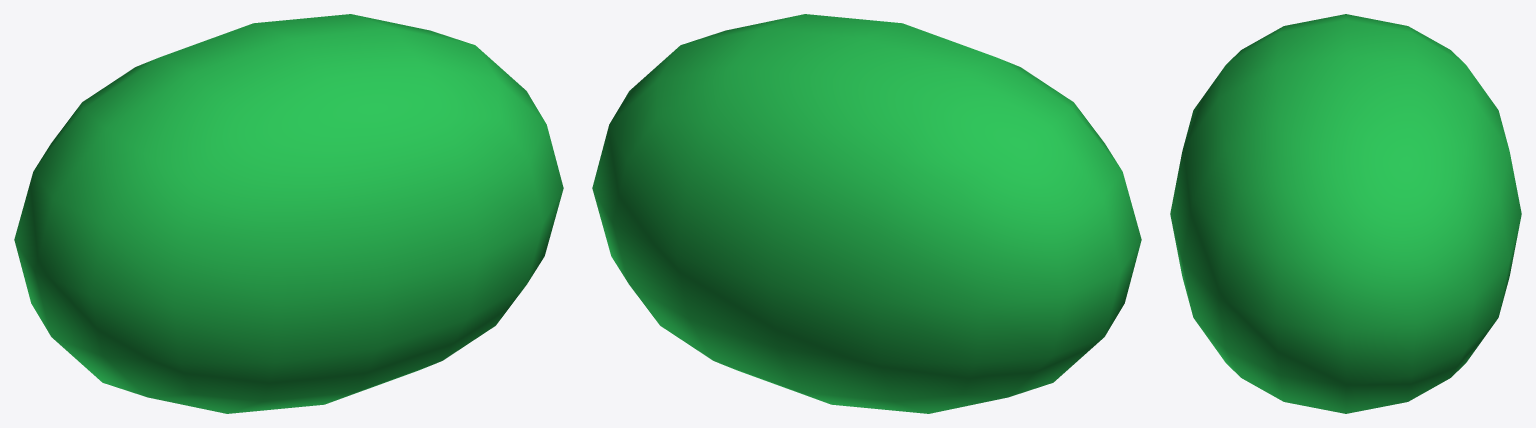
Rendered from Melon.fbx.
The picture shows the model from 3 angles, left to right: view 1: azimuth 30°, elevation 25°; view 2: azimuth 150°, elevation 25°; view 3: azimuth 270°, elevation 25°; orthographic projection. The views are drawn at different scales.
Visible parts, largest first — view 1: Melon; view 2: Melon; view 3: Melon.
Boxes of the visible parts, box(x1,y1,x2,y2) form: Melon: box(14, 14, 563, 413); Melon: box(592, 14, 1141, 413); Melon: box(1170, 14, 1521, 413).
Bounding box in the file's own units: 25.03 × 16.4 × 16.4.
